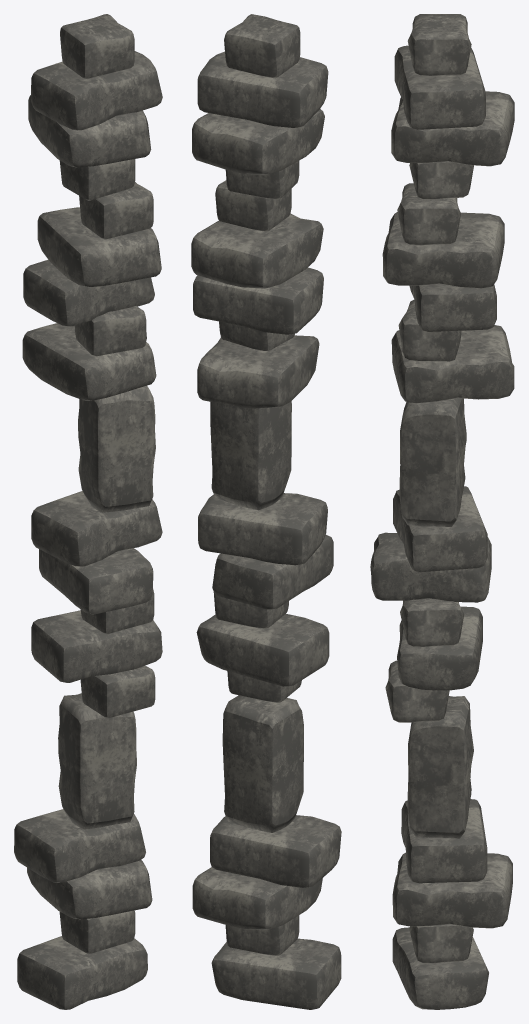
Rendered from StoneWall_StoneCorner.fbx.
The picture shows the model from 3 angles, left to right: view 1: azimuth 30°, elevation 25°; view 2: azimuth 150°, elevation 25°; view 3: azimuth 270°, elevation 25°; orthographic projection.
Visible parts, largest first — view 1: SM_StoneWallCornerTrim; view 2: SM_StoneWallCornerTrim; view 3: SM_StoneWallCornerTrim.
Boxes of the visible parts, bbox=[...] form: SM_StoneWallCornerTrim: bbox=[14, 14, 162, 1009]; SM_StoneWallCornerTrim: bbox=[191, 14, 341, 1009]; SM_StoneWallCornerTrim: bbox=[370, 14, 514, 1009].
Bounding box in the file's own units: 50.26 × 377 × 50.74.
